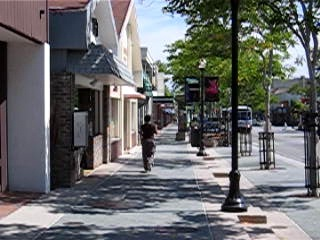person: (139, 116, 158, 174), (138, 116, 157, 174), (140, 116, 159, 174), (139, 115, 158, 173), (139, 117, 158, 175)
target_negative: (75, 12, 157, 219), (193, 120, 271, 222), (180, 40, 305, 90), (191, 113, 267, 163), (219, 100, 313, 129), (289, 83, 291, 200)
